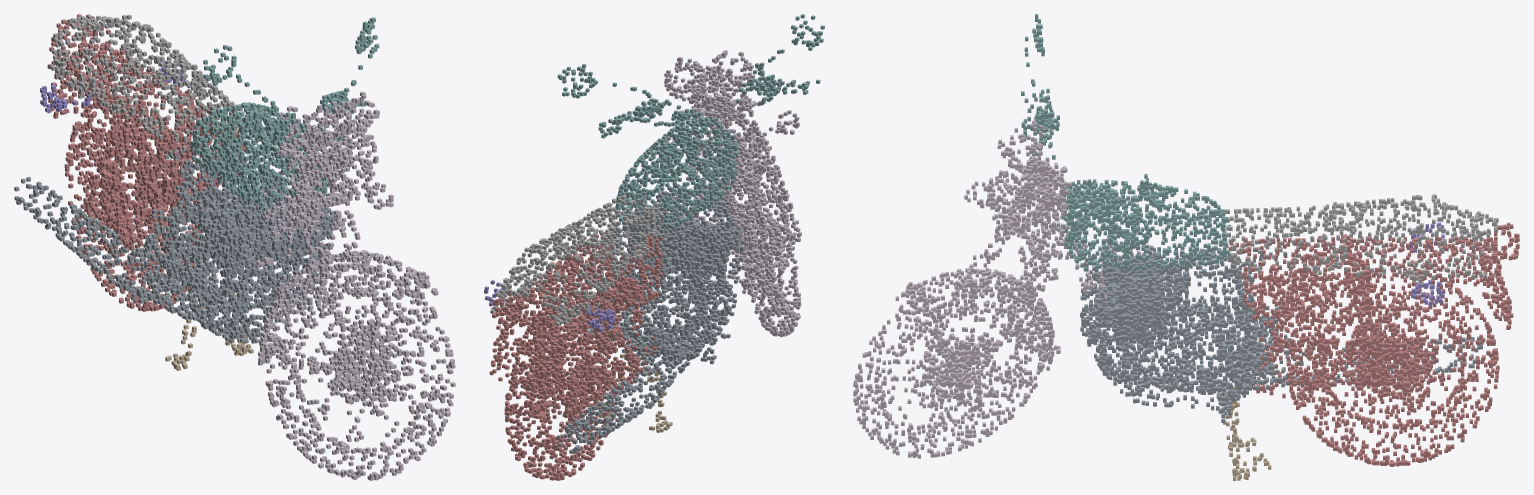
The model's file is motorcycle-1.glb.
3 views of the same model, side by side, from view 1: azimuth 30°, elevation 25°; view 2: azimuth 150°, elevation 25°; view 3: azimuth 270°, elevation 25° (orthographic). The views are drawn at different scales.
Parts seen in each view (by area): view 1: world; view 2: world; view 3: world.
Boxes of the visible parts, x1,y1,x2,y2 form: world: [14, 14, 455, 480]; world: [484, 14, 824, 480]; world: [853, 14, 1519, 480].
Bounding box in the file's own units: 0.7591 × 1.26 × 1.9.
